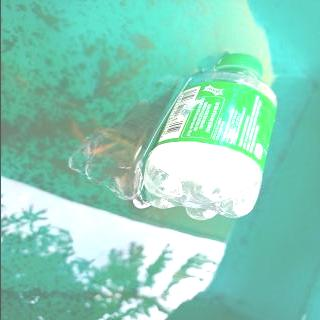bottle: (138, 53, 277, 220)
